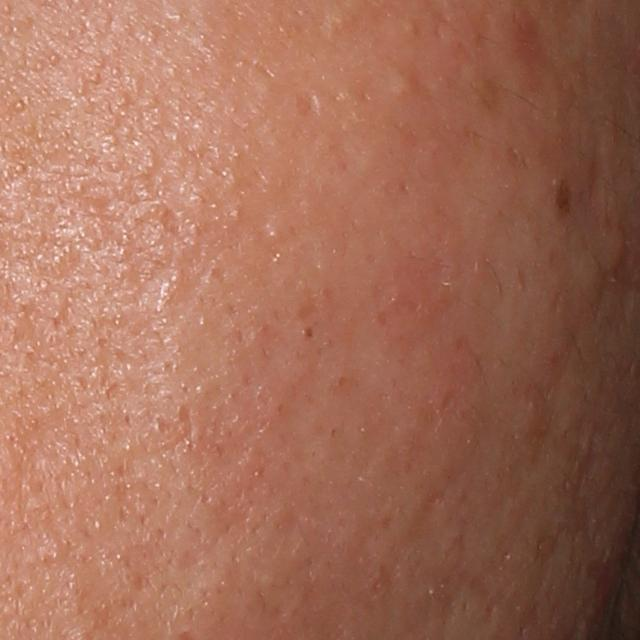atrophic_scar: (174, 401, 198, 451), (294, 90, 320, 120)
comedo: (263, 225, 285, 245)
nevus: (555, 181, 570, 217)
